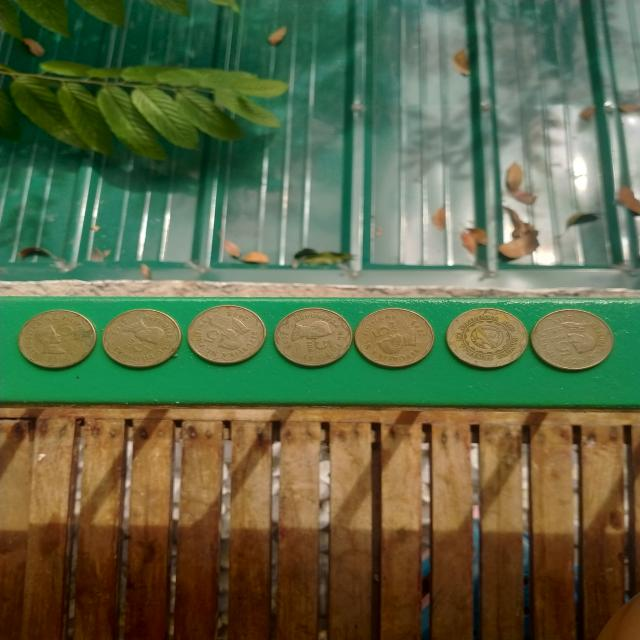5_Old_Back: (459, 312, 518, 360)
5_Old_Front: (366, 309, 430, 359), (22, 315, 88, 360), (108, 316, 176, 358), (545, 317, 603, 362), (202, 312, 258, 356), (287, 311, 335, 357)
